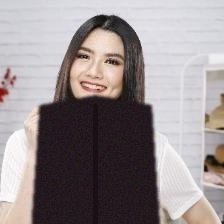Cadar_Niqab: (32, 10, 159, 224)
